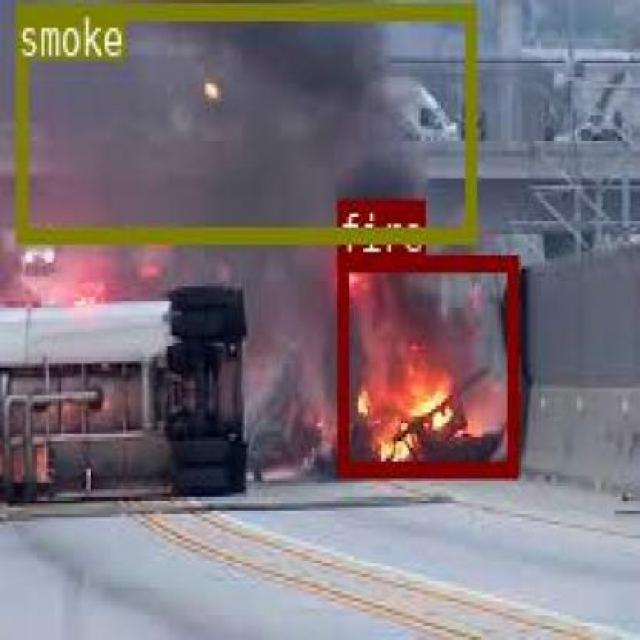Fire: (336, 254, 516, 476)
Smoke: (15, 2, 474, 241)
